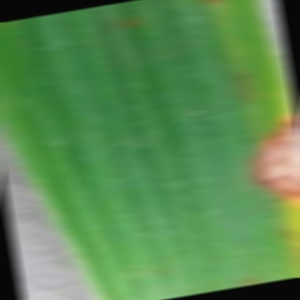Brown_Spot: (239, 105, 300, 228)
